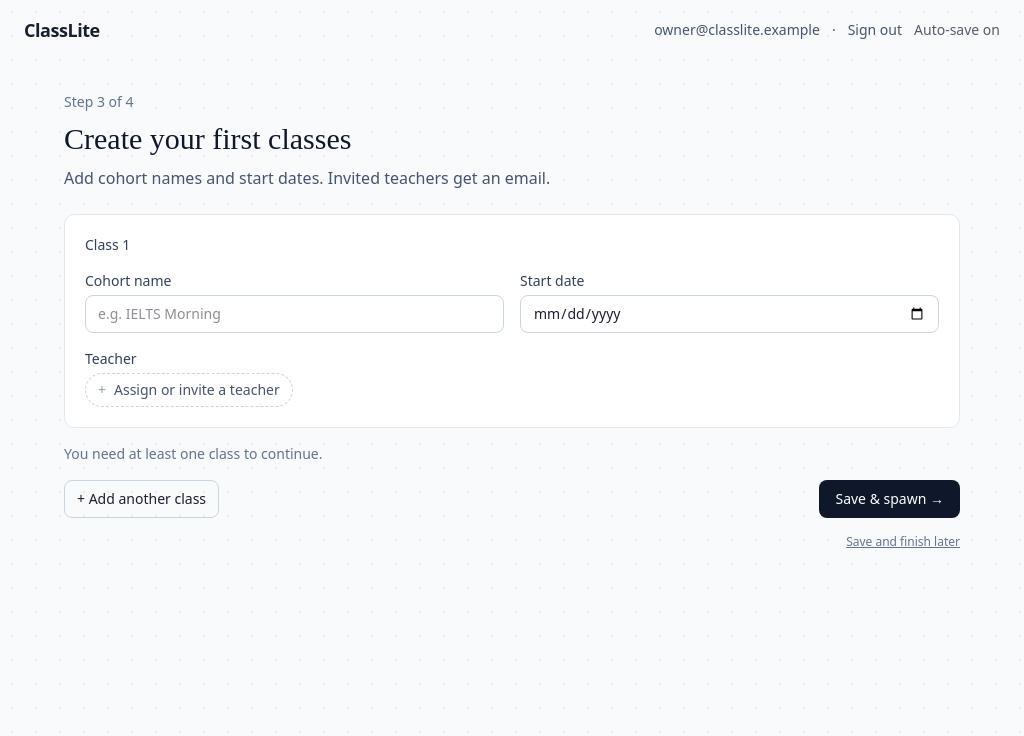
Test: AC5 — AssignChip composer (Sally-B1 single-panel invite-only) › Sally-I6: Enter with invalid email shows error, composer stays open
Click the button "+ Assign or invite a teacher". click: (189, 390)
box: [85,372,293,406]
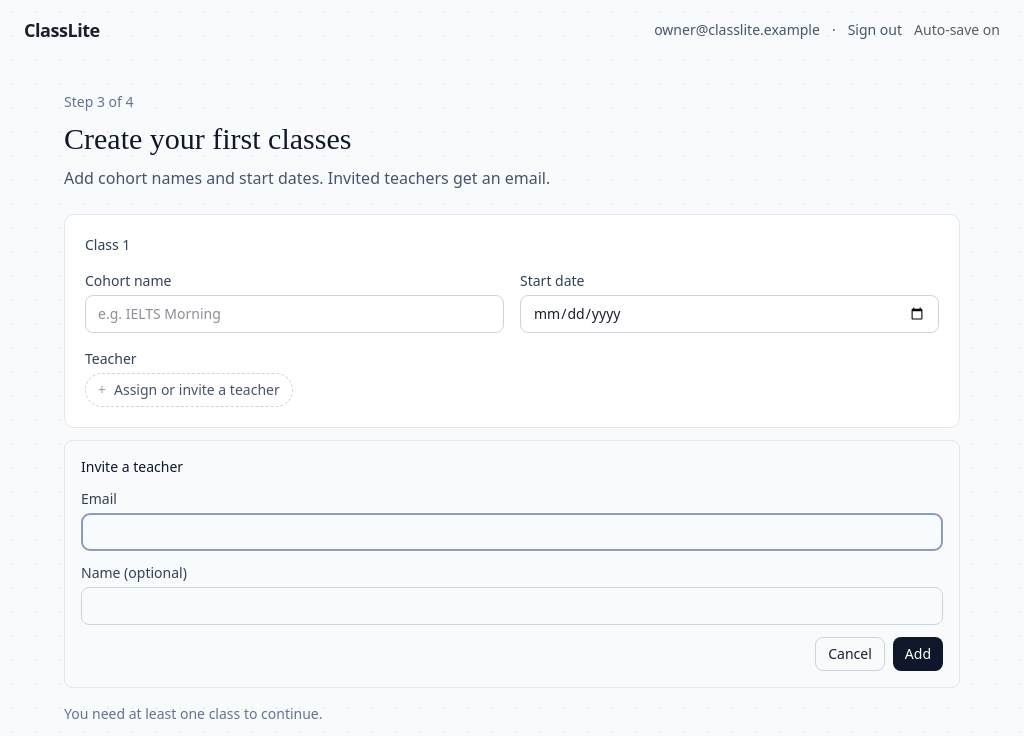
Type "not-an-email" into the field labelled "Email". click: (512, 532)
box: [81,512,943,550]
Then press Enter
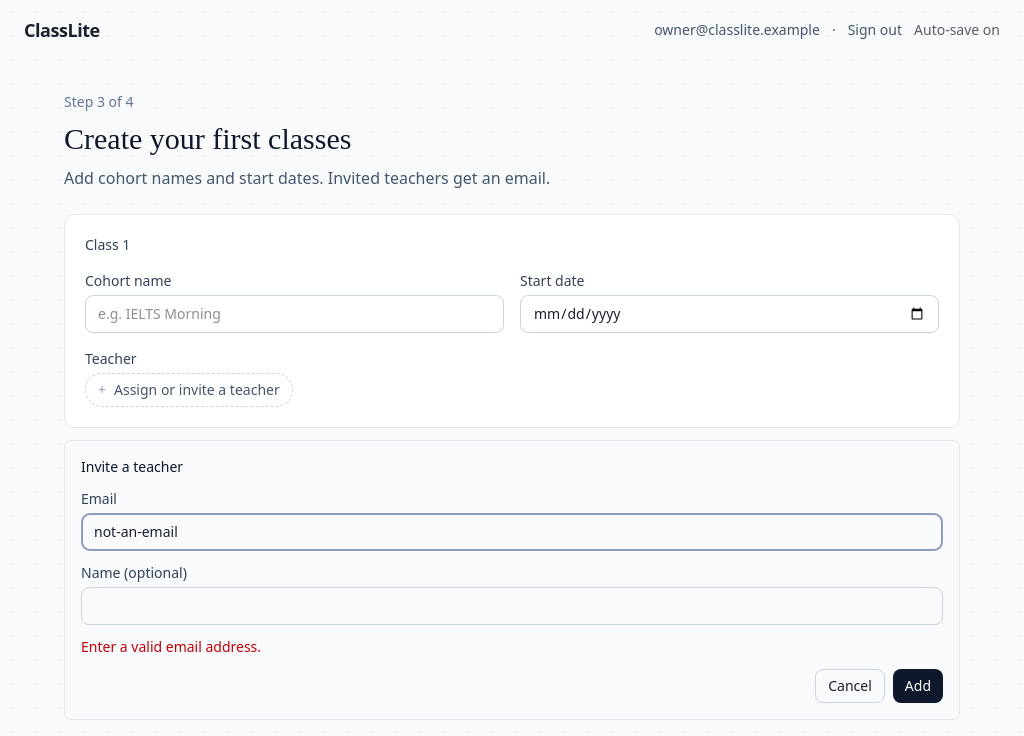
Check: the element that starts with "Invite a teacher" is shown, box [64,440,960,720]
Check: the text "Enter a valid email address." is shown, box [81,636,261,656]
